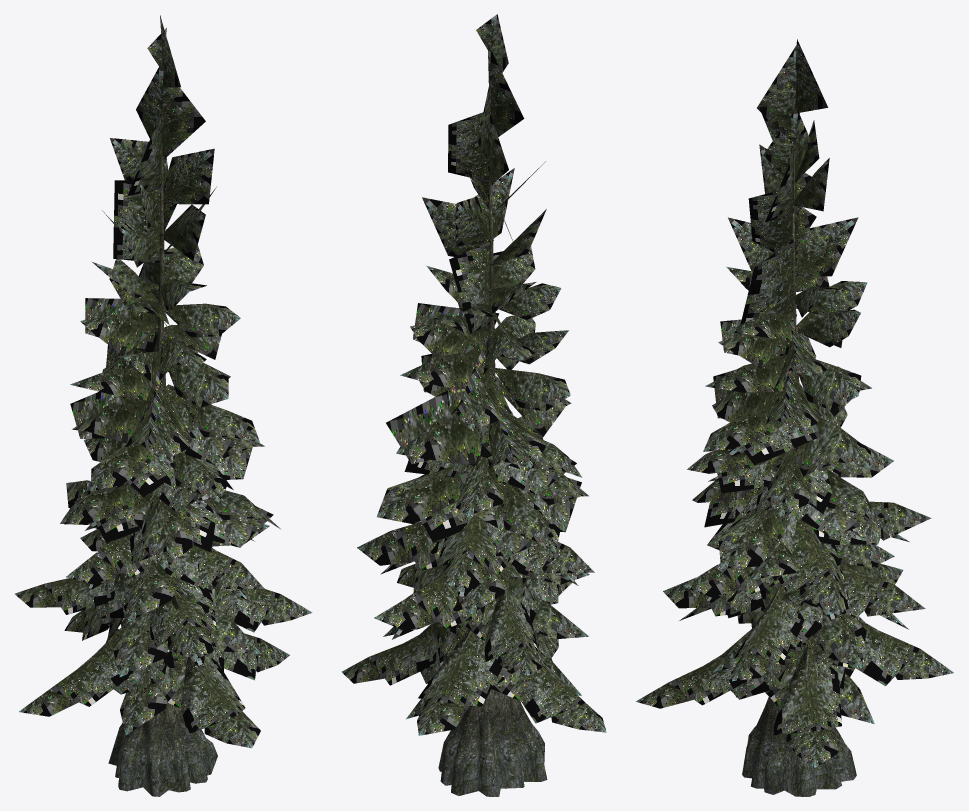
The model's file is treepineforestsnowl01-transformed.glb.
3 views of the same model, side by side, from view 1: azimuth 30°, elevation 25°; view 2: azimuth 150°, elevation 25°; view 3: azimuth 270°, elevation 25° (orthographic).
Visible parts, largest first — view 1: default; view 2: default; view 3: default.
Part boxes in pixels (box(x1,y1,x2,y2)): default: box(14, 15, 312, 796); default: box(341, 14, 606, 796); default: box(636, 39, 953, 796).
Bounding box in the file's own units: 9.49 × 25.65 × 9.77.
2 materials, 2 textured.
